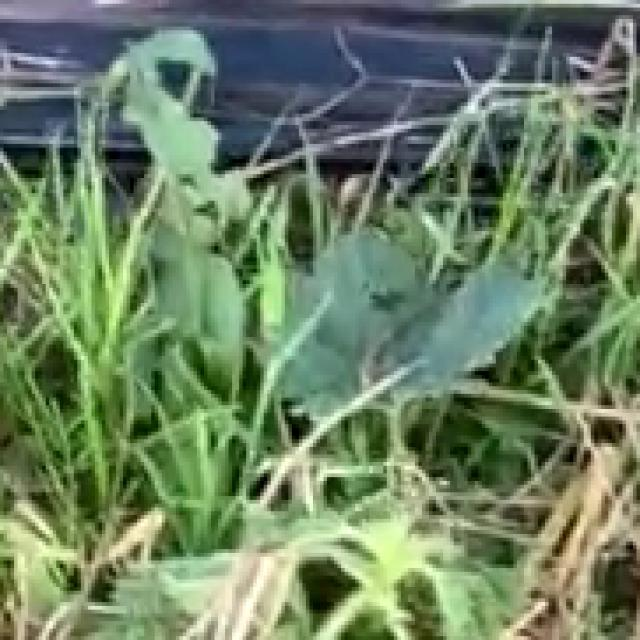organic waste: (119, 57, 576, 591)
